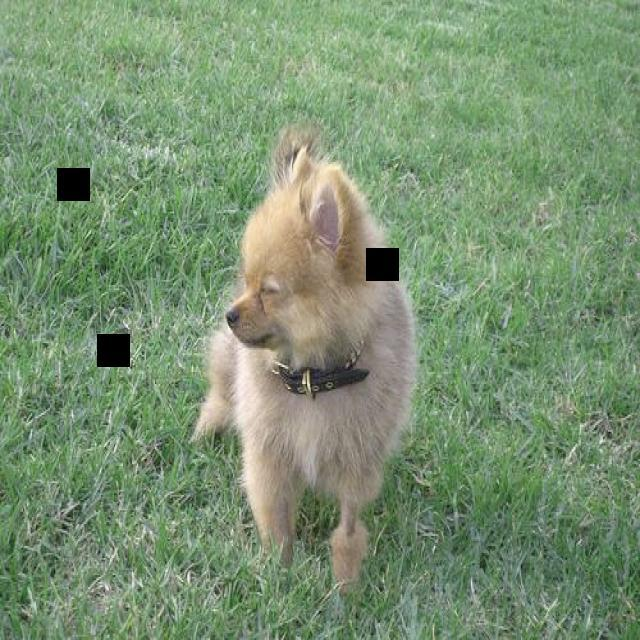puppy-dog: (194, 124, 417, 597)
